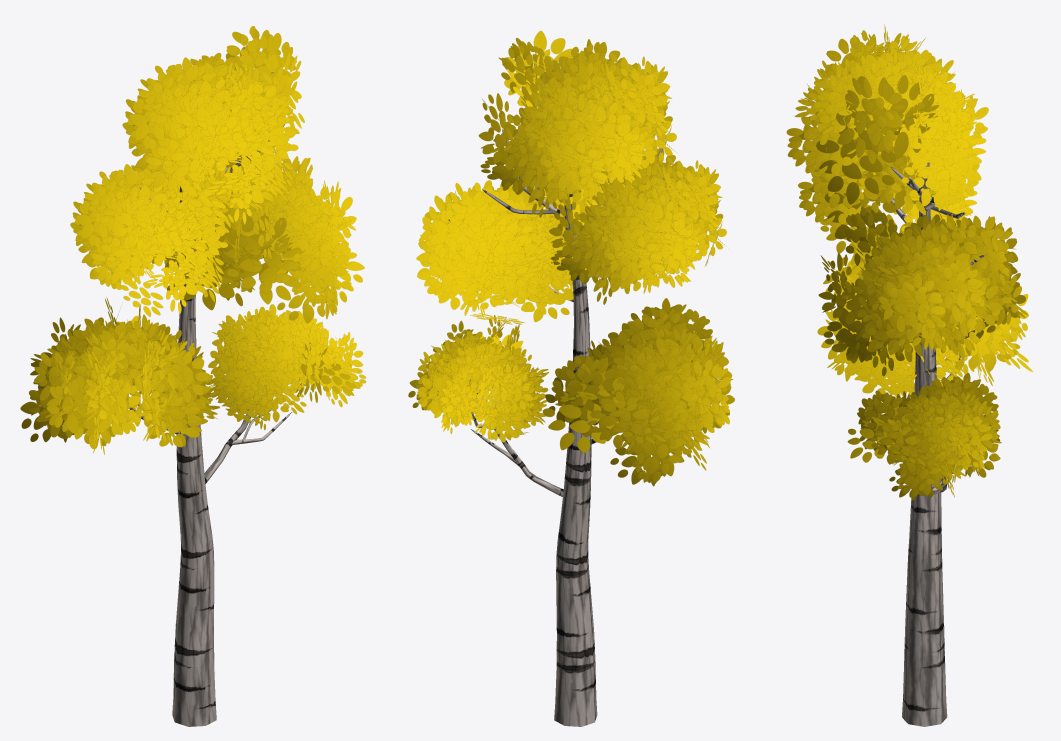
File: BirchTree_1.glb
The picture shows the model from 3 angles, left to right: view 1: azimuth 30°, elevation 25°; view 2: azimuth 150°, elevation 25°; view 3: azimuth 270°, elevation 25°; orthographic projection. The views are drawn at different scales.
Visible parts, largest first — view 1: BirchTree_1; view 2: BirchTree_1; view 3: BirchTree_1.
Boxes of the visible parts, x1,y1,x2,y2 form: BirchTree_1: (20,26,365,726); BirchTree_1: (408,30,734,726); BirchTree_1: (786,24,1032,726).
Size of the model in its own units: 2.71 by 5.45 by 1.94.
Materials: 2 (2 with a texture image).
